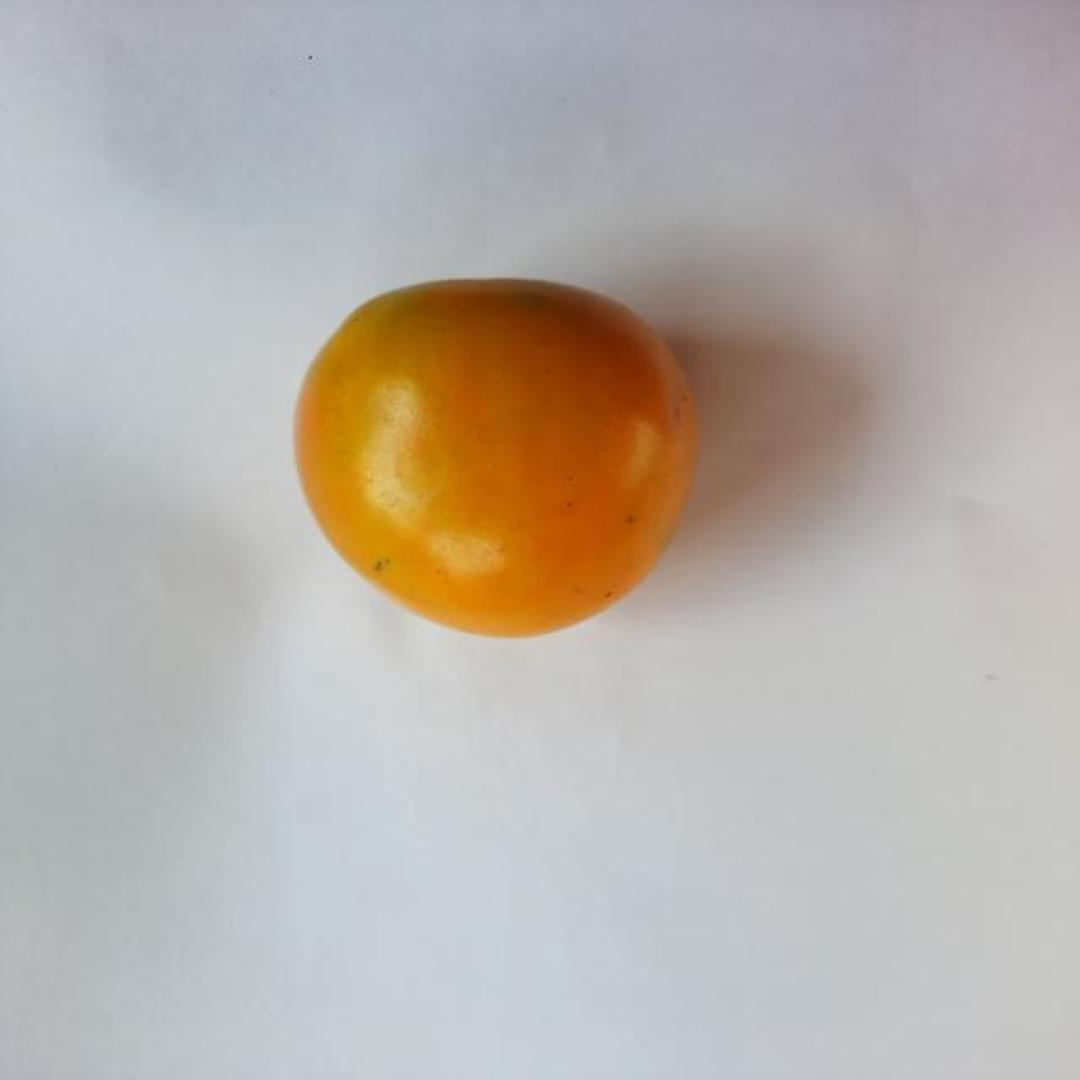setengah_matang: (288, 278, 704, 642)
